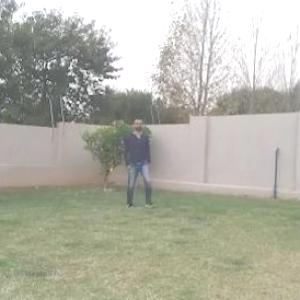follow: (124, 110, 150, 212)
